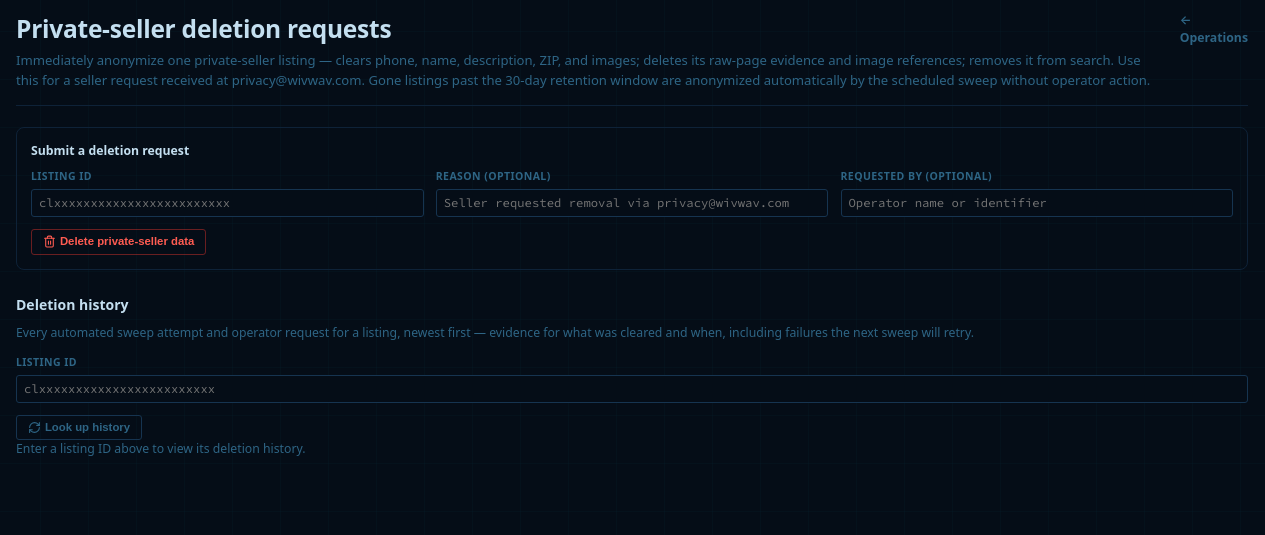
Test: PrivacyRequestsClient deletion history › should look up and render audit entries for a listing
The image size is (1265, 535).
Type "listing-1" into the 2nd field with placeholder "clxxxxxxxxxxxxxxxxxxxxxxxx". click: {"x": 632, "y": 389}
box: [16, 375, 1248, 403]
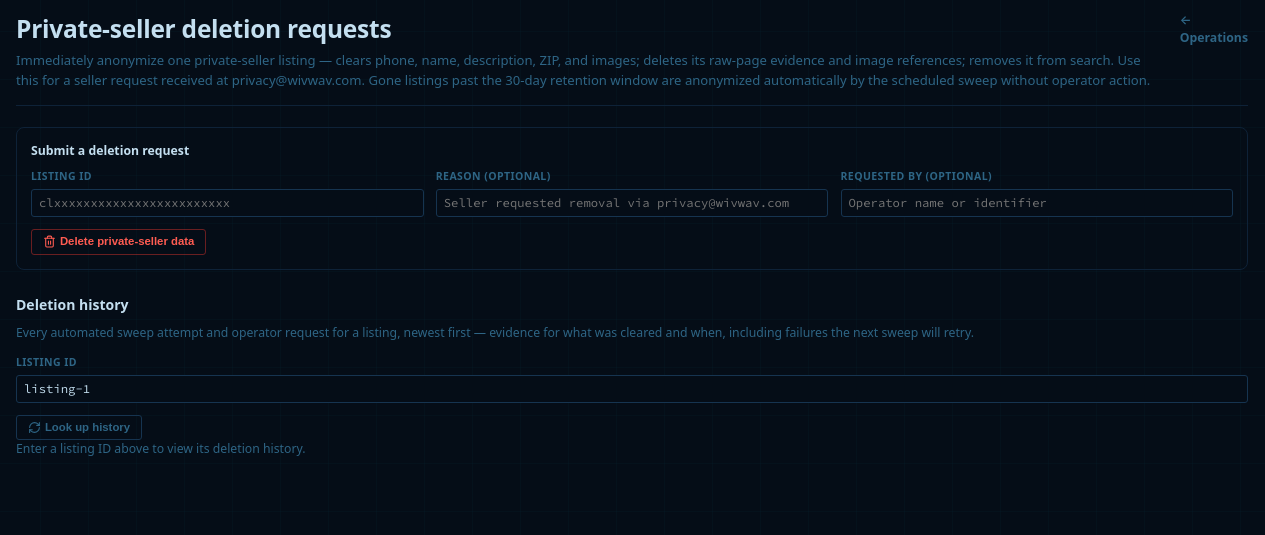
Click the button "Look up history". click: {"x": 79, "y": 428}
box: [16, 415, 142, 440]
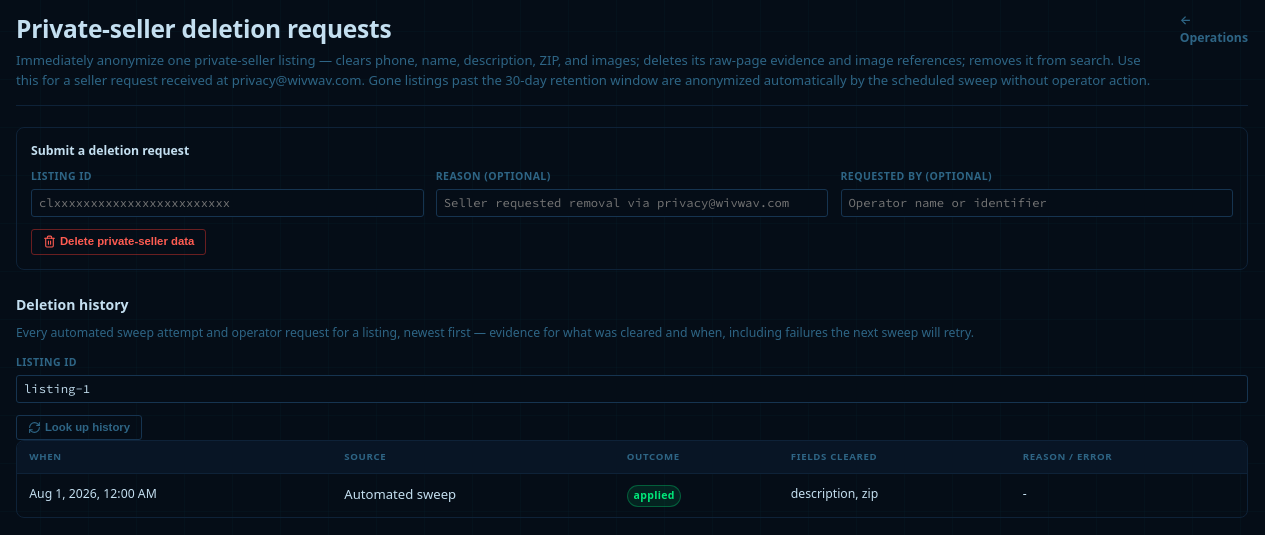
Expected: the text "description, zip" is shown, [779, 474, 1011, 517]
Expected: the text "applied" is shown, [627, 485, 681, 507]
